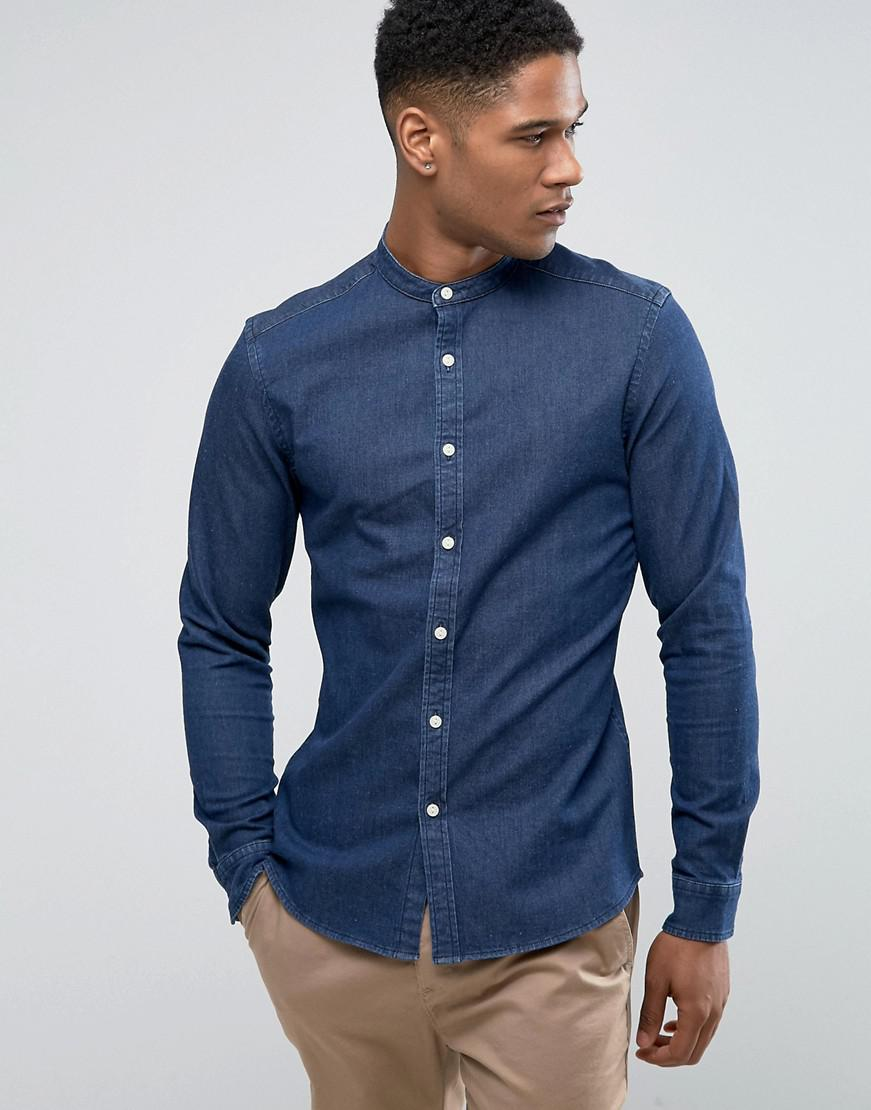teeshirt: (169, 222, 759, 968)
